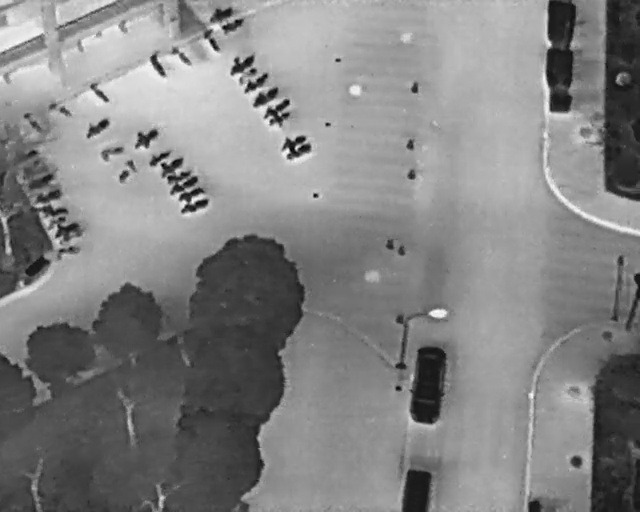Bicycle: (245, 80, 283, 114), (128, 120, 165, 154), (257, 91, 294, 124), (223, 47, 259, 79), (153, 149, 189, 180), (275, 125, 309, 157), (238, 68, 273, 98), (282, 137, 316, 166), (79, 113, 113, 142), (143, 142, 176, 171), (165, 172, 201, 198), (112, 155, 142, 186), (232, 61, 263, 89), (265, 104, 296, 132), (177, 195, 213, 218), (175, 182, 208, 207), (166, 42, 195, 70), (145, 49, 170, 81), (31, 185, 65, 208), (164, 163, 195, 188), (26, 169, 57, 194), (204, 1, 236, 25), (49, 218, 82, 241), (85, 78, 112, 106), (199, 26, 224, 56), (97, 140, 128, 163), (19, 109, 45, 136), (218, 13, 248, 36), (47, 99, 75, 119), (43, 211, 69, 232), (52, 243, 81, 261), (42, 203, 70, 216)
Car: (406, 342, 451, 426), (400, 466, 434, 510)
